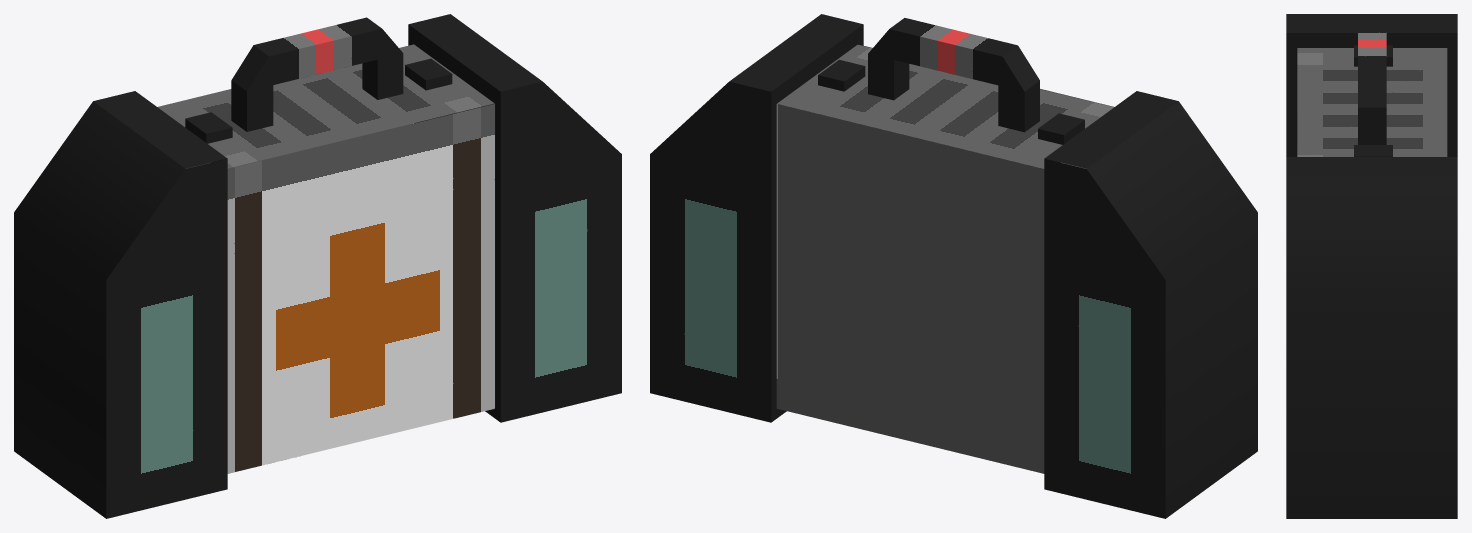
Rendered from MedicKit.fbx.
3 views of the same model, side by side, from view 1: azimuth 30°, elevation 25°; view 2: azimuth 150°, elevation 25°; view 3: azimuth 270°, elevation 25° (orthographic). The views are drawn at different scales.
Parts seen in each view (by area): view 1: pCube18; view 2: pCube18; view 3: pCube18.
Boxes of the visible parts, left/top/right/bottom form: pCube18: left=14, top=14, right=621, bottom=518; pCube18: left=650, top=14, right=1257, bottom=518; pCube18: left=1286, top=14, right=1457, bottom=518.
Bounding box in the file's own units: 1.67 × 1.19 × 0.519.
